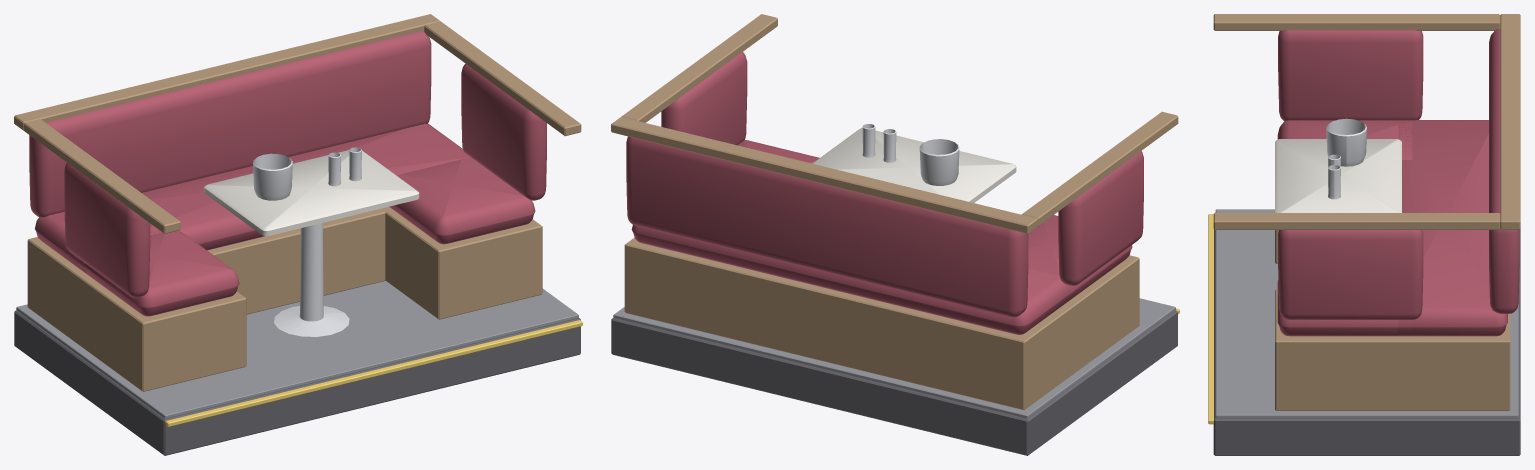
File: nightclub-and-dj-booth-raised-seating-booth-1a83af09__34128.glb
3 views of the same model, side by side, from view 1: azimuth 30°, elevation 25°; view 2: azimuth 150°, elevation 25°; view 3: azimuth 270°, elevation 25° (orthographic).
Visible parts, largest first — view 1: raised-seating-booth; view 2: raised-seating-booth; view 3: raised-seating-booth.
Part boxes in pixels (x1,y1,x2,y2): raised-seating-booth: [14, 14, 582, 455]; raised-seating-booth: [611, 14, 1179, 455]; raised-seating-booth: [1208, 14, 1520, 455].
Bounding box in the file's own units: 2.41 × 1.27 × 1.53.
